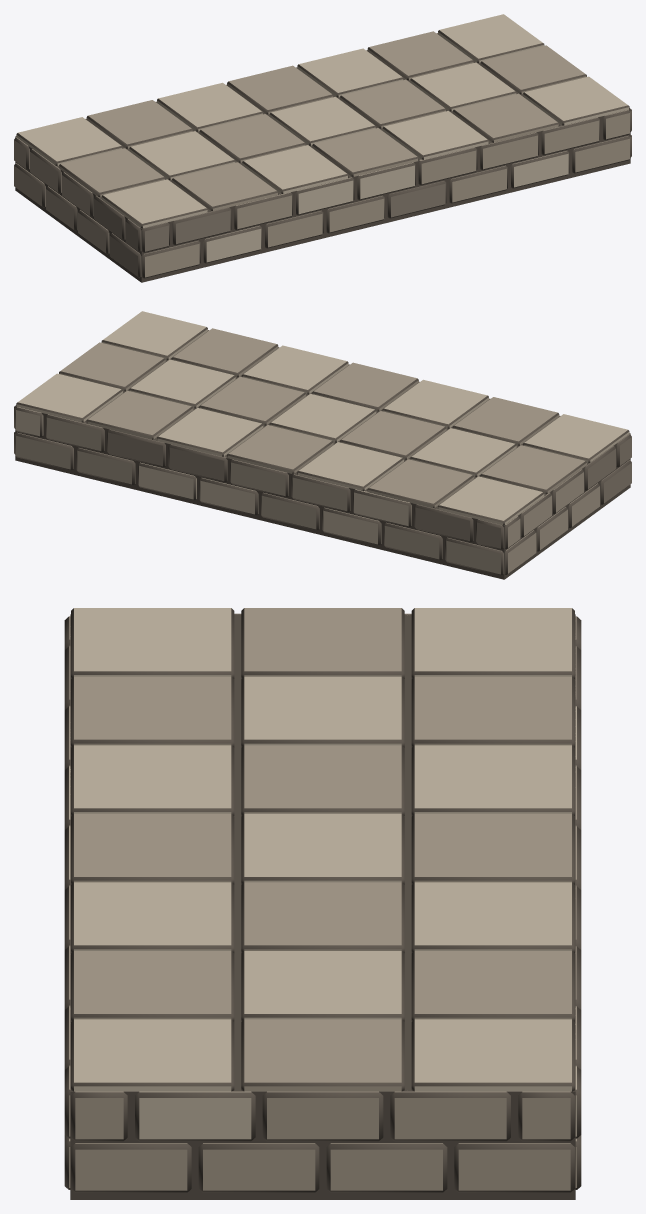
File: tide_shelf.glb
3 views of the same model, one above another, from view 1: azimuth 30°, elevation 25°; view 2: azimuth 150°, elevation 25°; view 3: azimuth 270°, elevation 25° (orthographic). The views are drawn at different scales.
Visible parts, largest first — view 1: tide_shelf; view 2: tide_shelf; view 3: tide_shelf.
Boxes of the visible parts, x1,y1,x2,y2 form: tide_shelf: (14, 14, 631, 282); tide_shelf: (14, 311, 631, 579); tide_shelf: (64, 608, 581, 1199).
Size of the model in its own units: 8.04 by 0.9 by 3.64.
